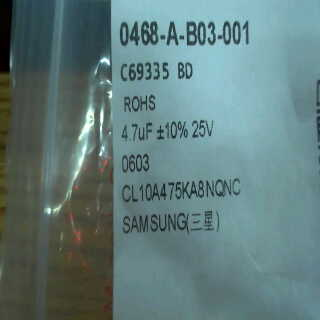4.7uF: (119, 119, 157, 146)
